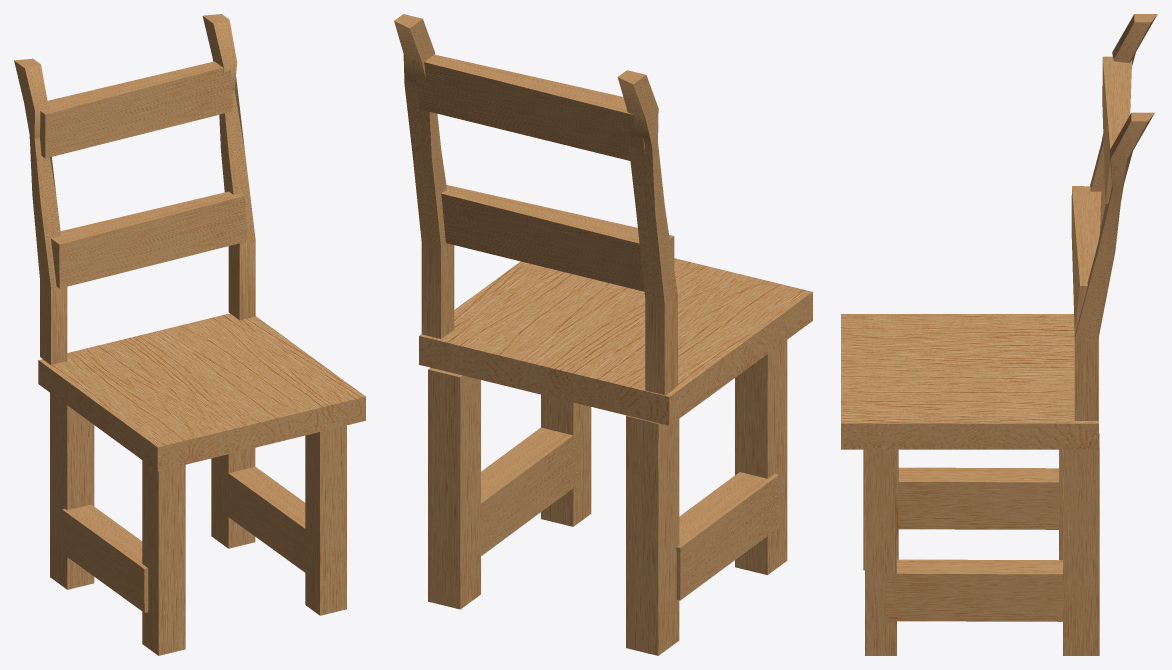
The model's file is Chair_Texture.fbx.
The picture shows the model from 3 angles, left to right: view 1: azimuth 30°, elevation 25°; view 2: azimuth 150°, elevation 25°; view 3: azimuth 270°, elevation 25°; orthographic projection. The views are drawn at different scales.
Parts seen in each view (by area): view 1: pCube12; view 2: pCube12; view 3: pCube12.
Part boxes in pixels (<box>): pCube12: <box>14,14,365,655</box>; pCube12: <box>394,14,812,655</box>; pCube12: <box>841,14,1157,655</box>.
Bounding box in the file's own units: 1.13 × 2.57 × 1.37.
Materials: 1 (1 with a texture image).
